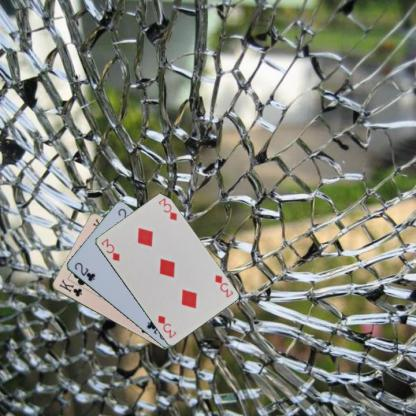2c: (72, 260, 96, 283)
3d: (98, 236, 121, 262), (212, 272, 234, 299)
Kc: (57, 277, 83, 298)
